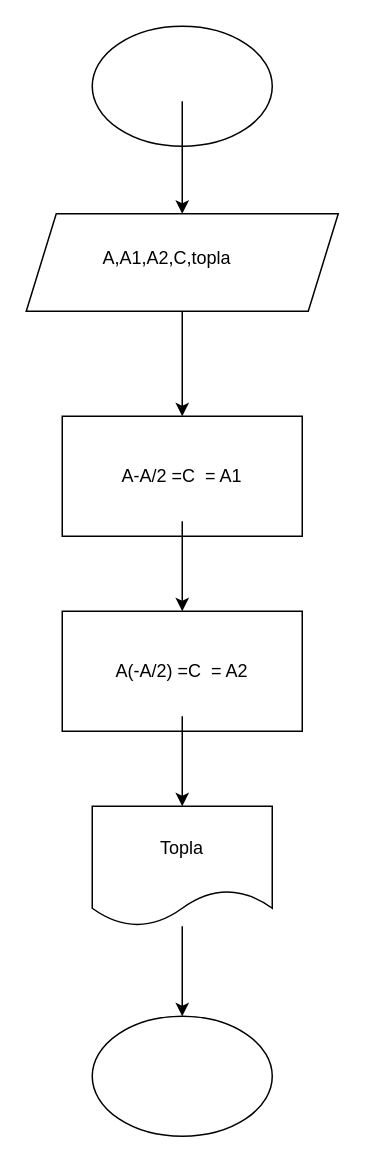
This 365x1163 diagram has some shape labels left out. The shapes that lost their labels are listed below. From the top down, each one's centre as x and y in pixels, then its label:
At (181,85): "Başla".
At (181,1075): "Dur".
